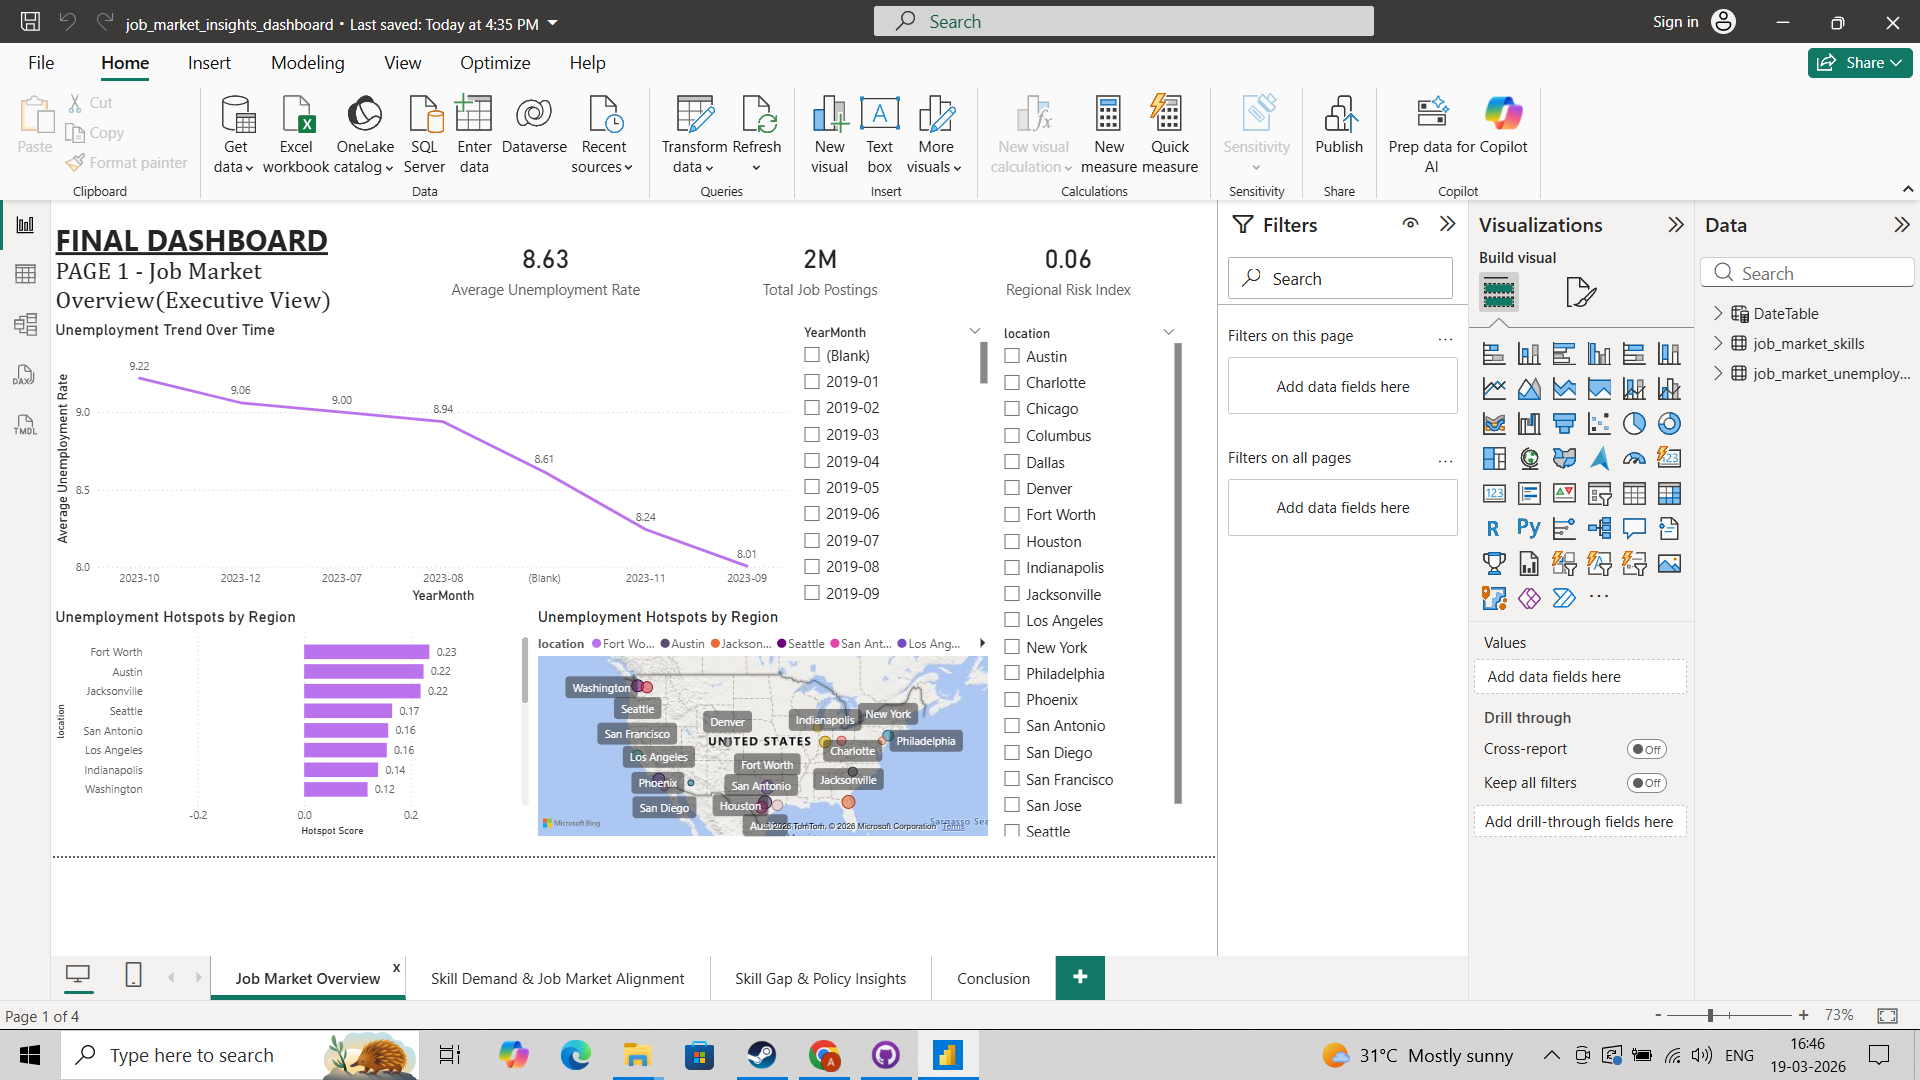

The dashboard page shown, as its layout file describes it:
{"tool":"powerbi","page":{"name":"Job Market Overview","canvas":[1280,720],"ordinal":0},"visuals":[{"type":"lineChart","title":"Unemployment Trend Over Time","fields":{"Y":["job_market_unemployment_trends.Average Unemployment Rate"],"Category":["DateTable.YearMonth"]},"box":[0,131.7,813.7,315.6],"z":0},{"type":"card","fields":{"Values":["job_market_unemployment_trends.Total Job Postings"]},"box":[701.2,16.5,286.8,115.3],"z":1000},{"type":"barChart","title":"Unemployment Hotspots by Region","fields":{"Category":["job_market_unemployment_trends.location"],"Y":["job_market_unemployment_trends.Hotspot Score"]},"box":[0,447.3,529.7,256.6],"z":2000},{"type":"map","title":"Unemployment Hotspots by Region","fields":{"Size":["job_market_unemployment_trends.Hotspot Score"],"Category":["job_market_unemployment_trends.location"],"Series":["job_market_unemployment_trends.location"]},"box":[529.7,447.3,503.6,256.6],"z":3000},{"type":"card","fields":{"Values":["job_market_unemployment_trends.Average Unemployment Rate"]},"box":[385.6,16.5,315.6,115.3],"z":4000},{"type":"card","fields":{"Values":["job_market_unemployment_trends.Hotspot Score"]},"box":[988,16.5,258,115.3],"z":5000},{"type":"slicer","fields":{"Values":["DateTable.YearMonth"]},"box":[813.7,131.7,219.6,315.6],"z":6000},{"type":"slicer","fields":{"Values":["job_market_unemployment_trends.location"]},"box":[1033.3,133.1,212.7,570.8],"z":7000},{"type":"textbox","box":[0,16.5,385.6,115.3],"z":8000}]}

Visuals, with their boxes on the page's 1280x720 design canvas (x1, y1, x2, y2). These are canvas units, not pixel positions in the 1920x1080 screenshot, which may show the page scaled, cropped or inside an application window:
"Unemployment Trend Over Time" lineChart: [0,132,814,447]
card - job_market_unemployment_trends.Total Job Postings: [701,16,988,132]
"Unemployment Hotspots by Region" barChart: [0,447,530,704]
"Unemployment Hotspots by Region" map: [530,447,1033,704]
card - job_market_unemployment_trends.Average Unemployment Rate: [386,16,701,132]
card - job_market_unemployment_trends.Hotspot Score: [988,16,1246,132]
slicer - DateTable.YearMonth: [814,132,1033,447]
slicer - job_market_unemployment_trends.location: [1033,133,1246,704]
textbox: [0,16,386,132]
